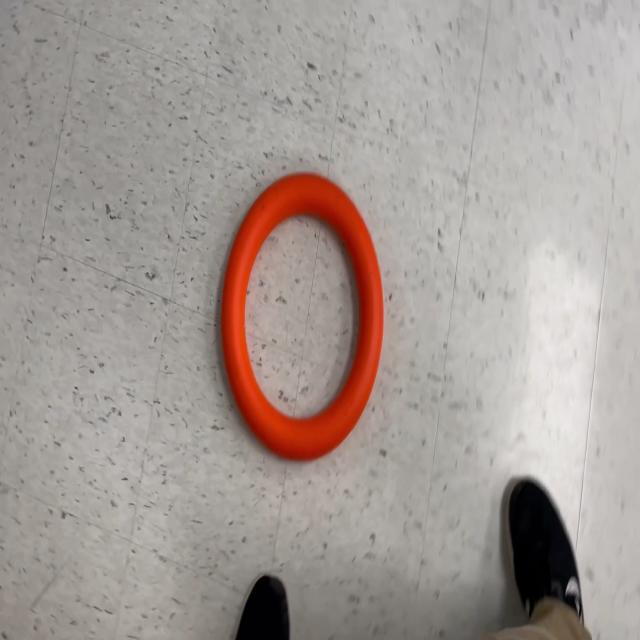note: (218, 170, 387, 464)
